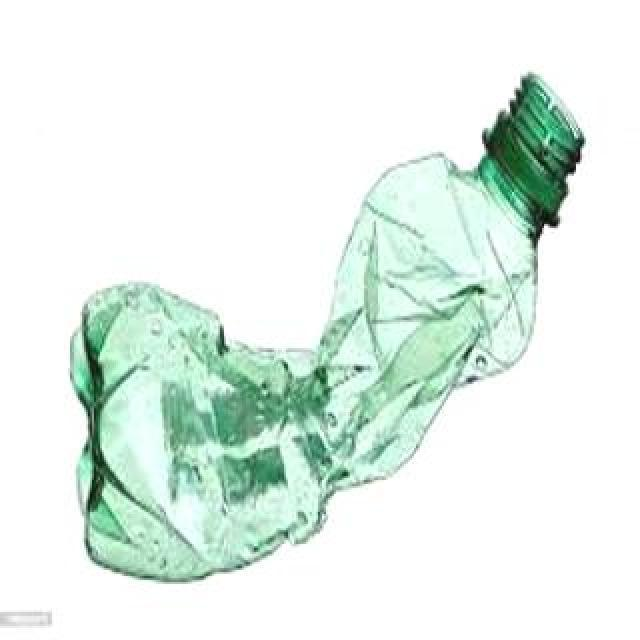Pet_Bottle: (67, 59, 589, 601)
